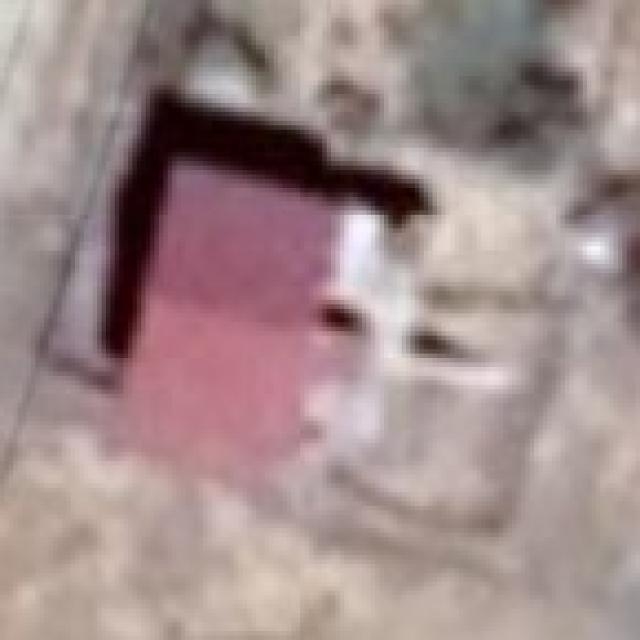Batiment: (125, 157, 334, 485)
